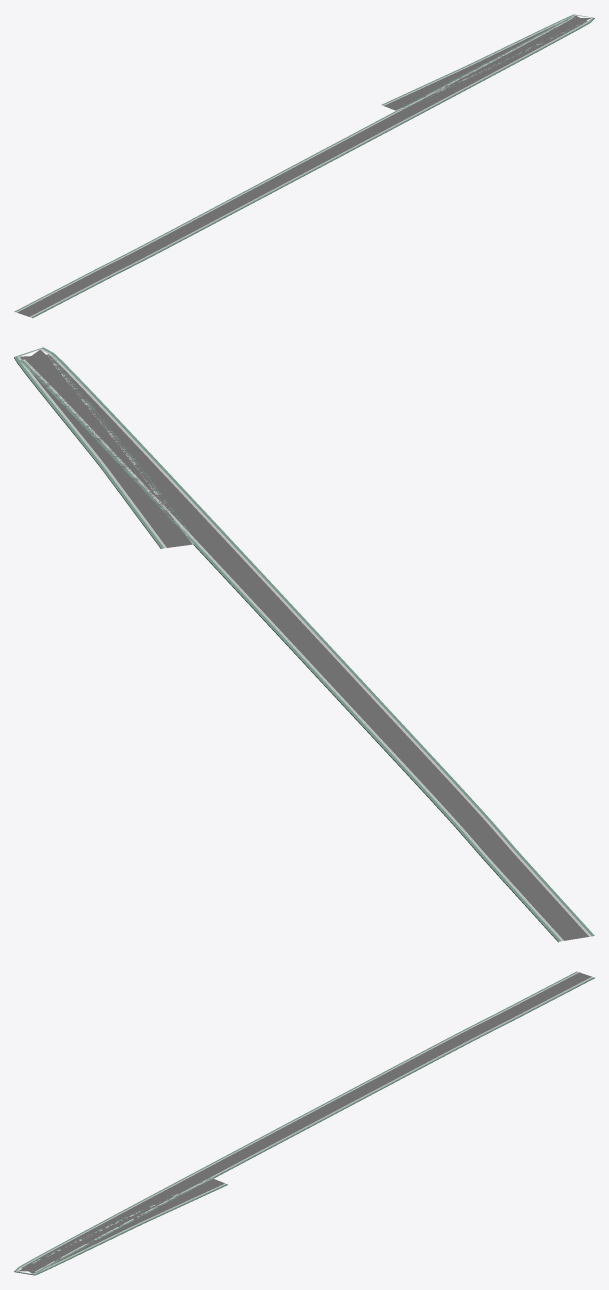
The model's file is road_roam_to2_harbour_lights.glb.
3 renders of one model, top to bottom at view 1: azimuth 90°, elevation 25°; view 2: azimuth 150°, elevation 25°; view 3: azimuth 270°, elevation 25°, orthographic. The views are drawn at different scales.
Parts seen in each view (by area): view 1: road; view 2: road; view 3: road.
Boxes of the visible parts, x1,y1,x2,y2 form: road: (14,14,594,318); road: (14,347,594,942); road: (14,971,594,1275).
Size of the model in its own units: 366 by 0.32 by 296.
